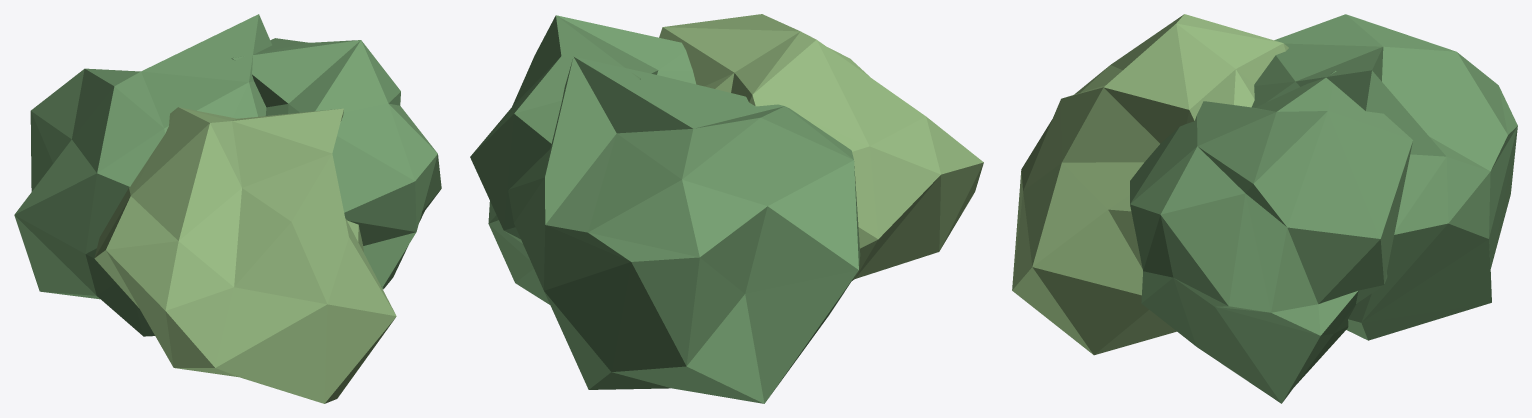
File: nature_bush_01.glb
3 renders of one model, left to right at view 1: azimuth 30°, elevation 25°; view 2: azimuth 150°, elevation 25°; view 3: azimuth 270°, elevation 25°, orthographic. The views are drawn at different scales.
Visible parts, largest first — view 1: geometry_0; view 2: geometry_0; view 3: geometry_0.
Part boxes in pixels (x1=…): geometry_0: x1=14, y1=14, x2=441, y2=403; geometry_0: x1=470, y1=14, x2=983, y2=403; geometry_0: x1=1012, y1=14, x2=1517, y2=403.
Size of the model in its own units: 2.04 by 1.48 by 2.19.
